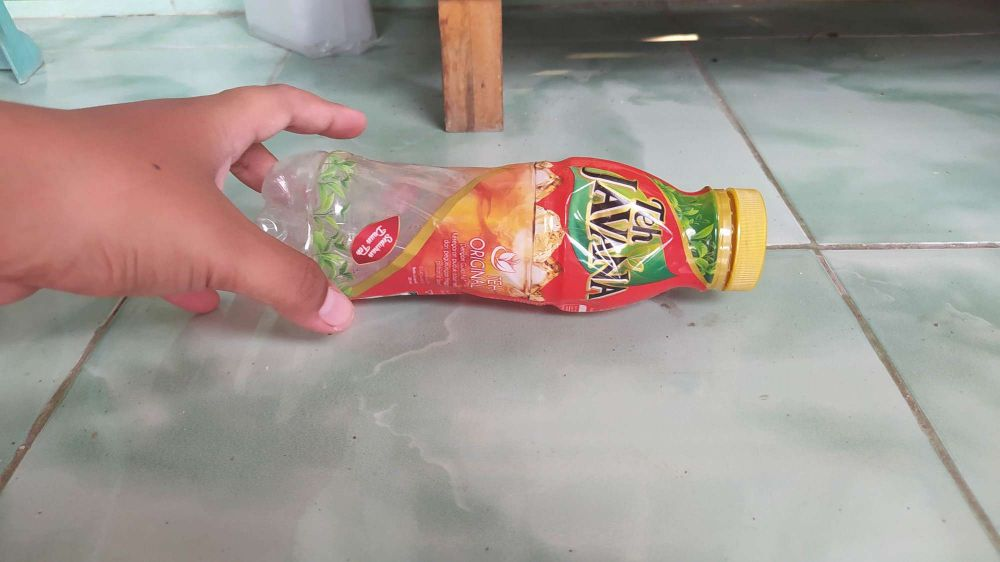botol: (229, 117, 788, 302)
